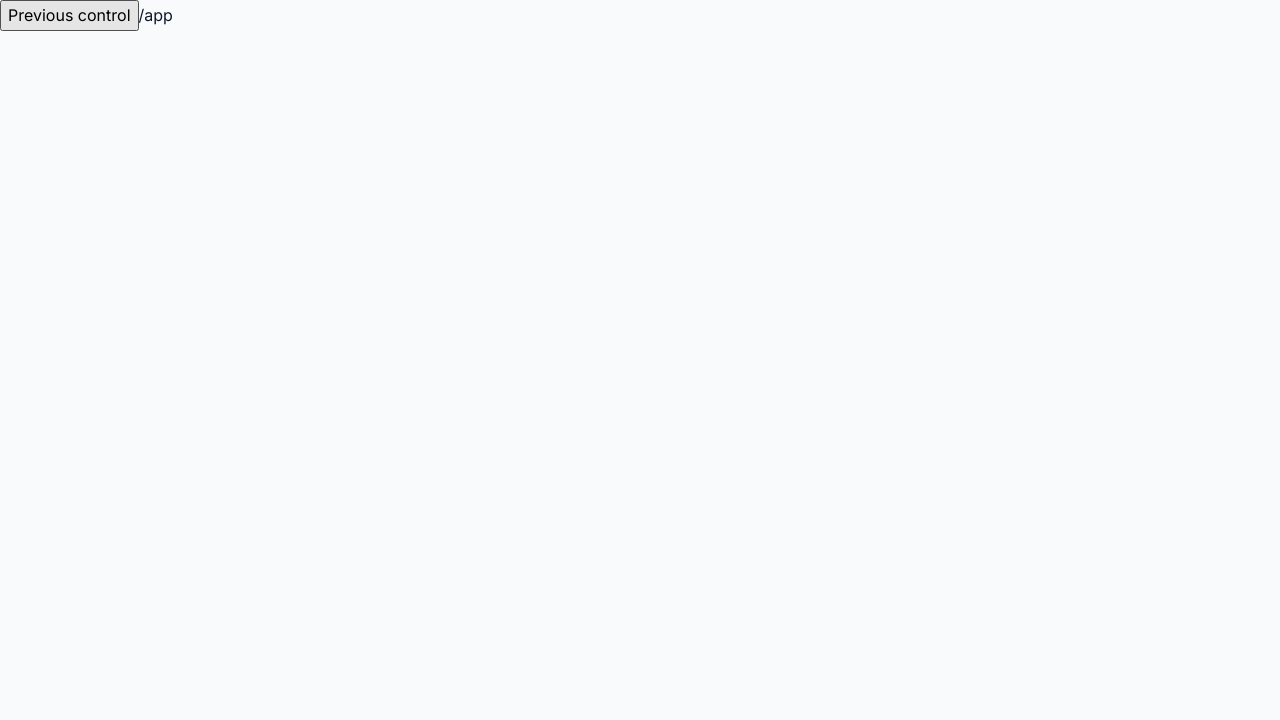
Test: SearchProvider and useSearch › opens the selected result with arrows and Enter
The image size is (1280, 720).
Press k
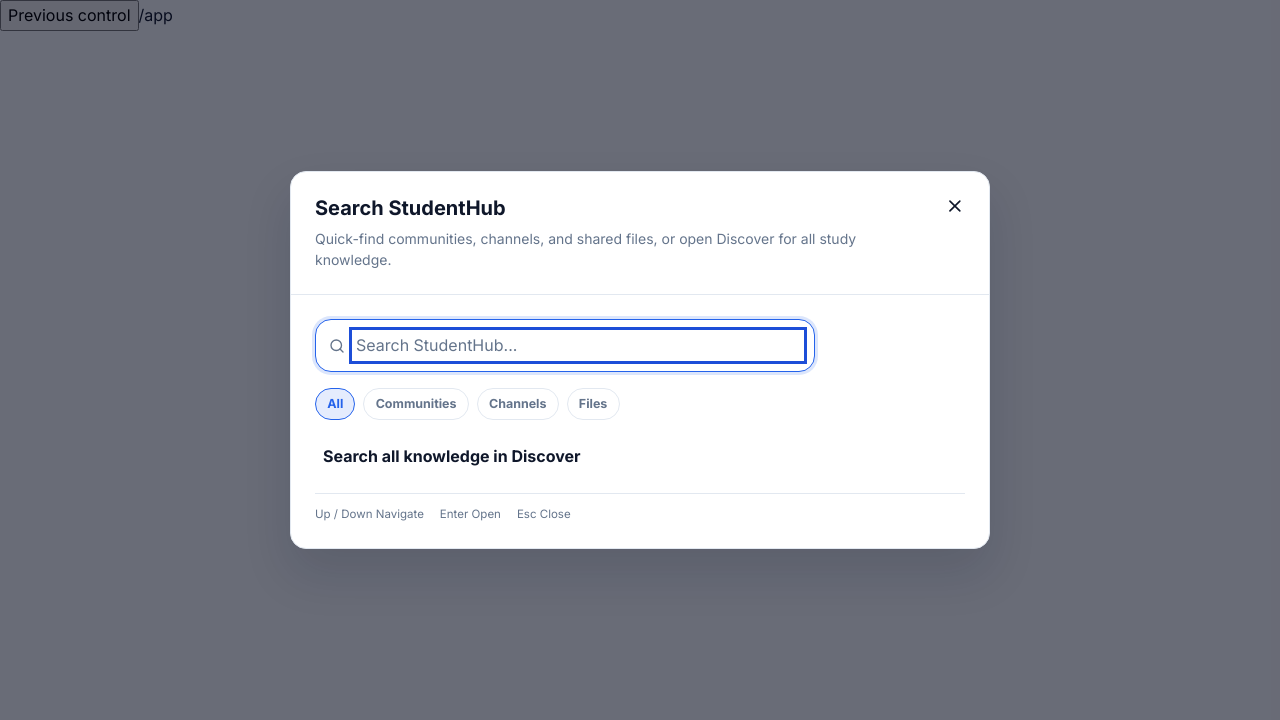
Type "integration-query" into the dropdown labelled "Search StudentHub" at (578, 346), box [354,332,802,359]
Wait 300 ms
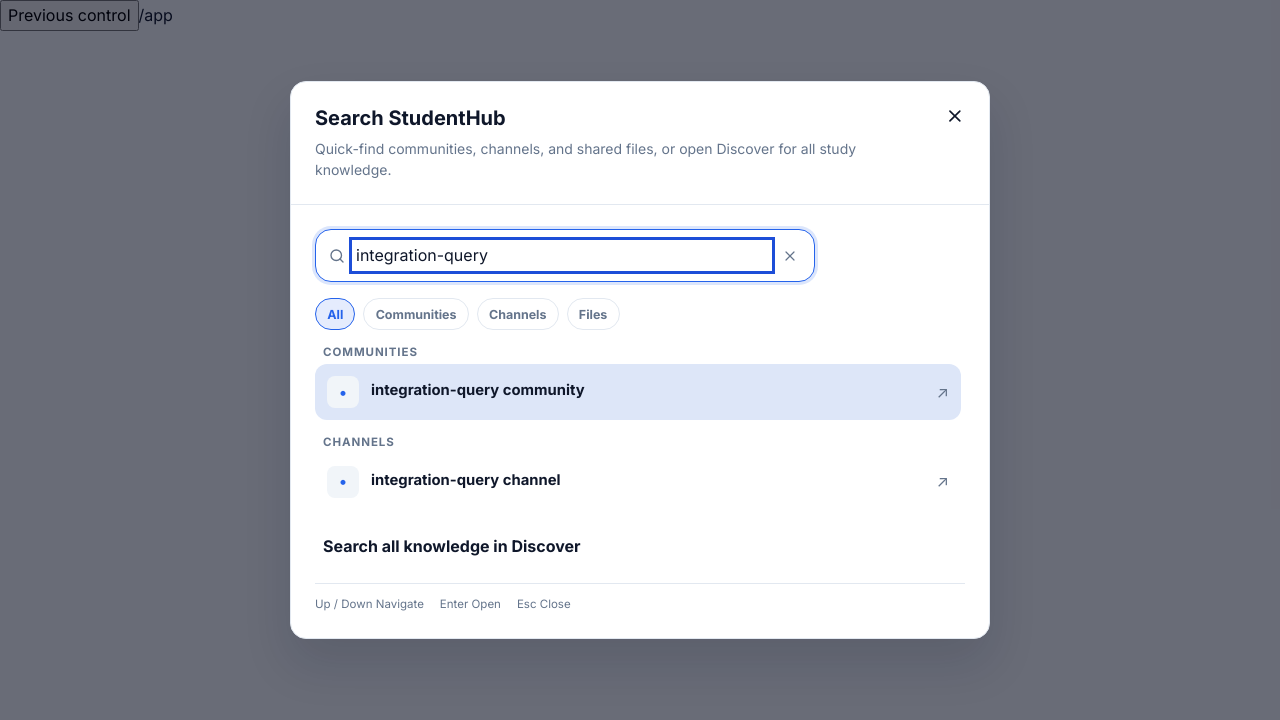
Press ArrowDown in the dropdown named "Search StudentHub", box [354,242,770,269]
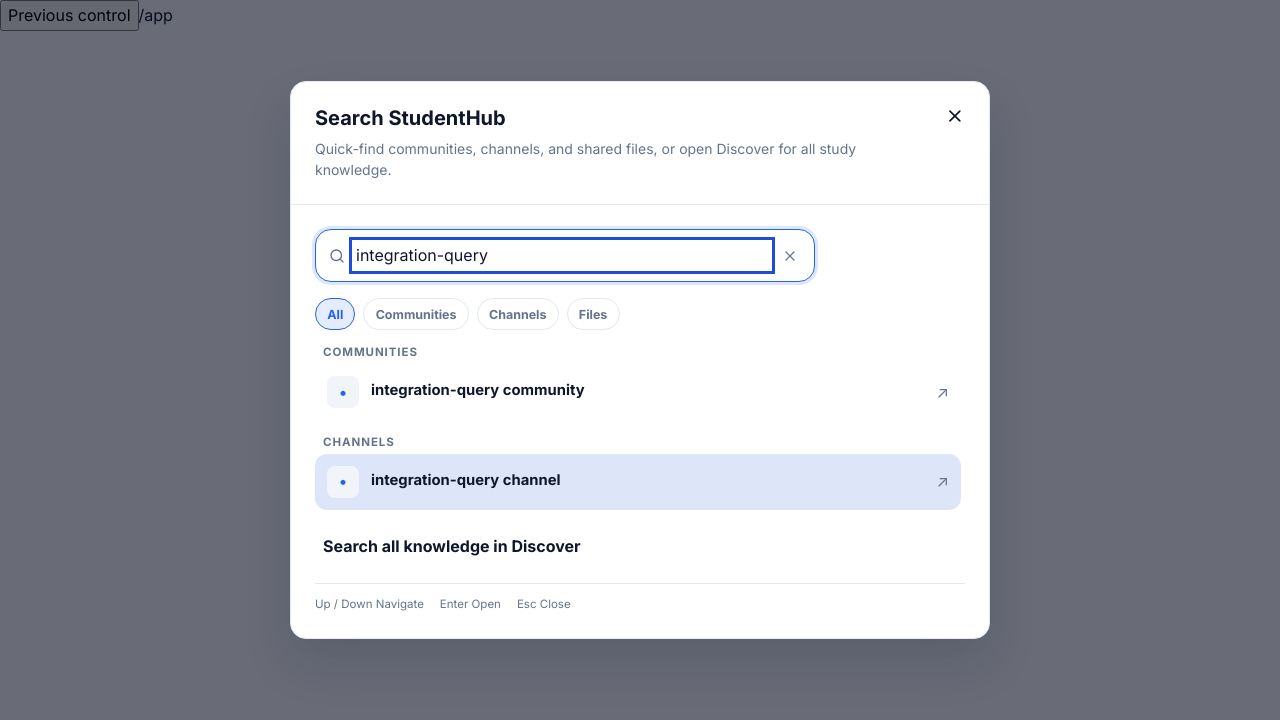
Press Enter in the dropdown named "Search StudentHub", box [354,242,770,269]
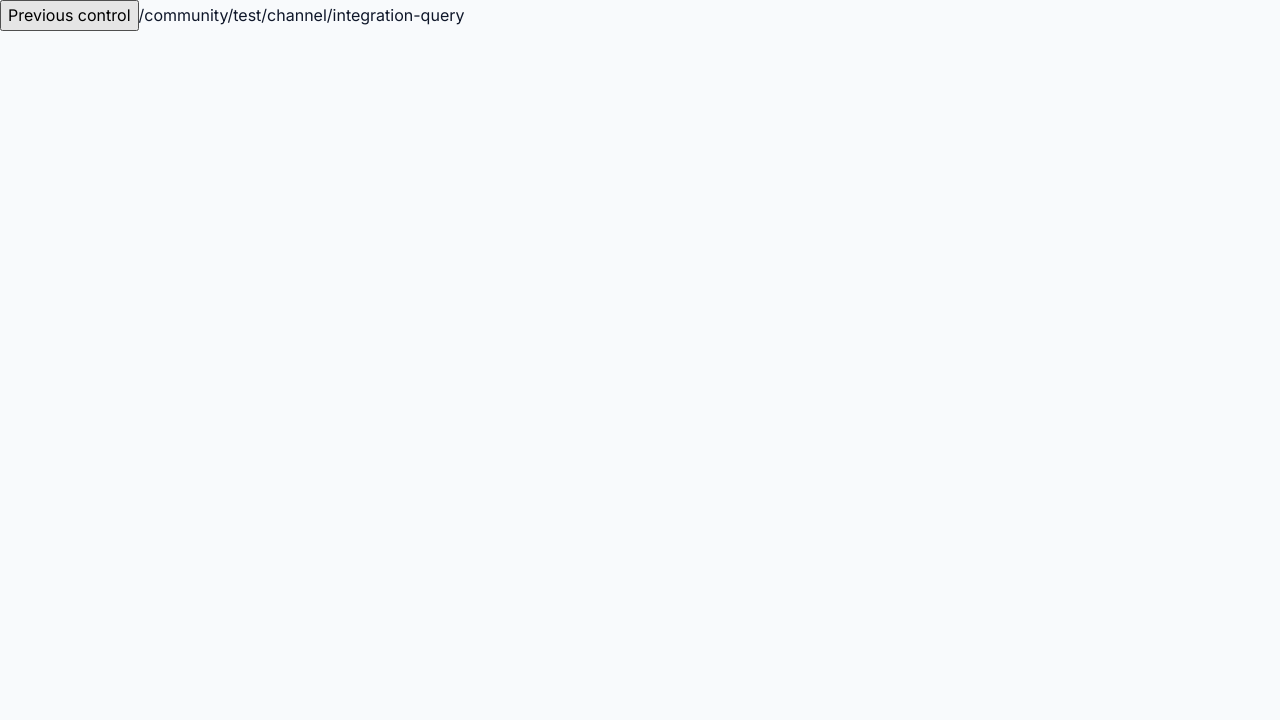
Check: the text with test id "location" reads "/community/test/channel/integration-query", box [138,5,464,25]
Check: the dialog is gone
